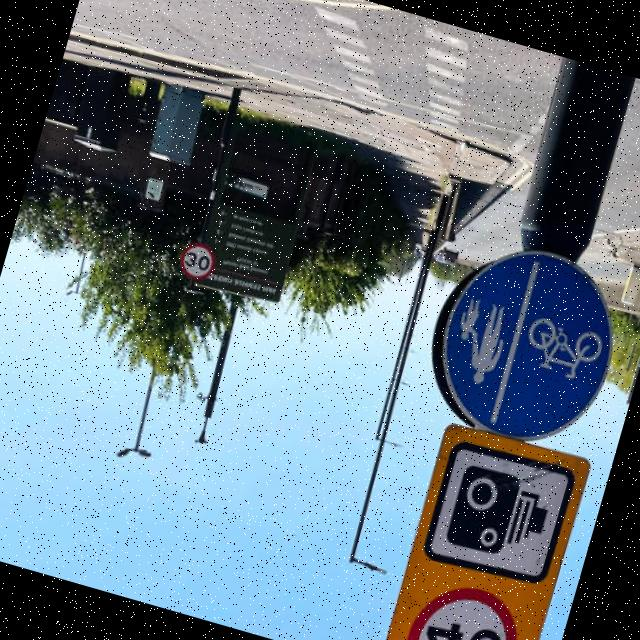bicycle: (415, 222, 640, 460)
